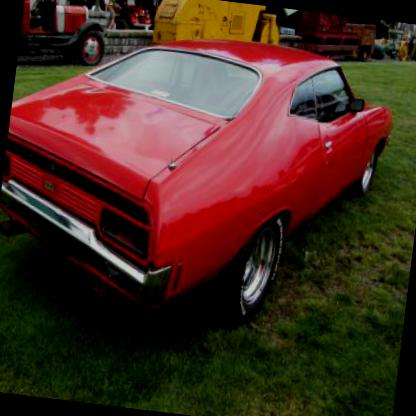car: (0, 2, 372, 342)
